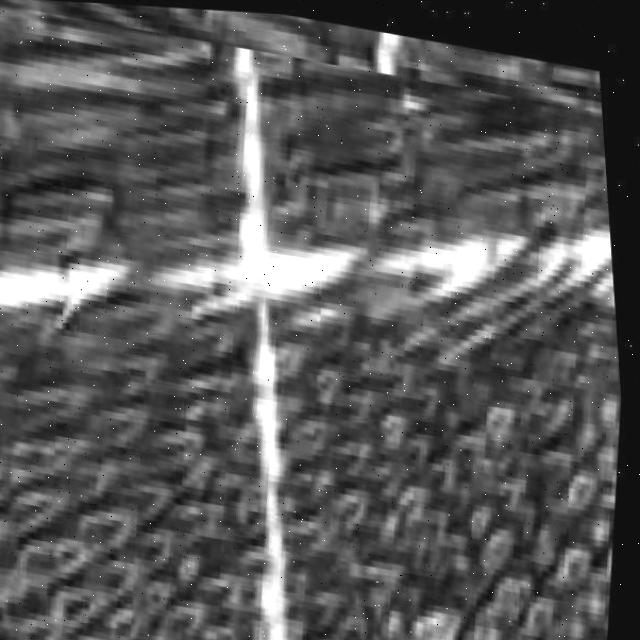Structural Damage: (0, 4, 625, 640)
